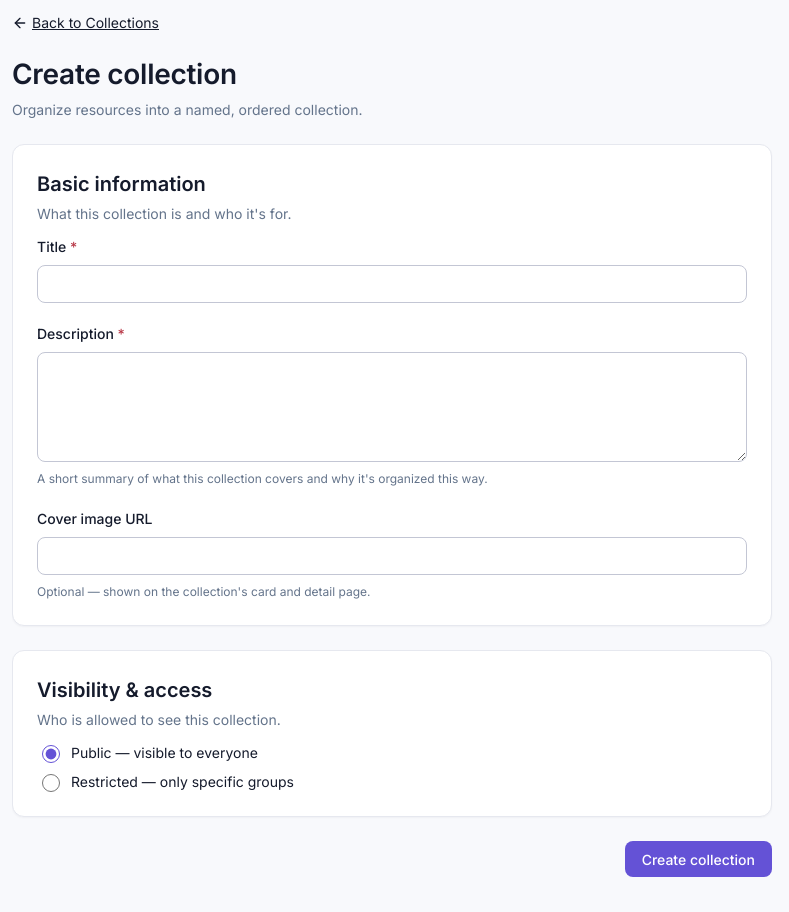
Scenario: CreateCollectionPage › shows a server error and keeps the form in place when creation fails
Type "A New Collection" into the field labelled "Title *" at (392, 284), box [50,266,734,302]
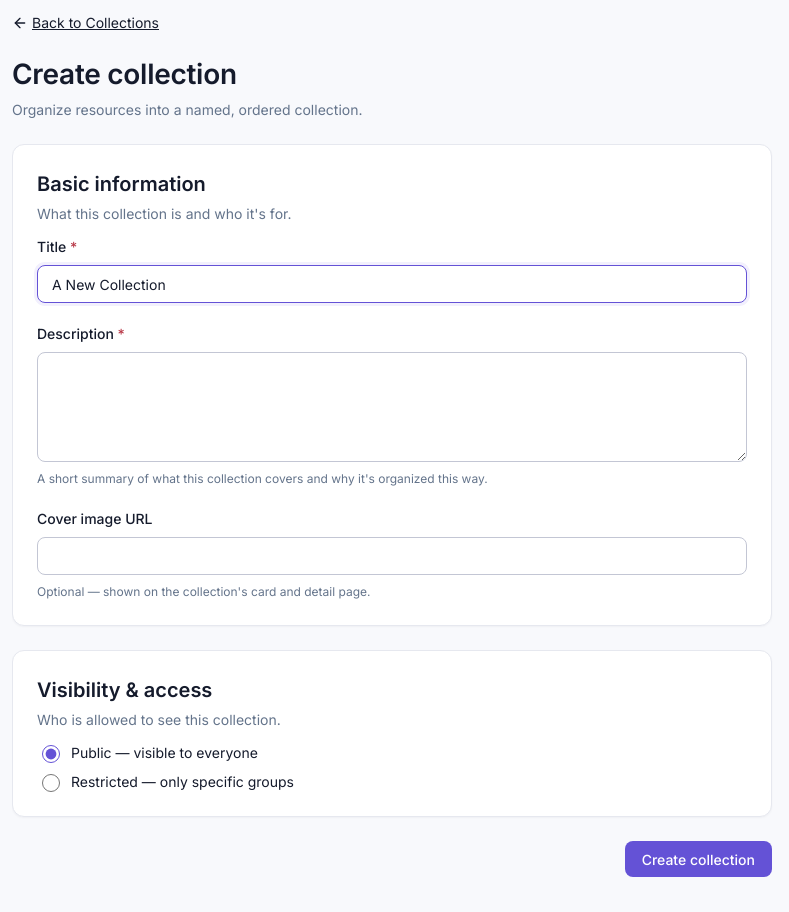
Type "Describes something useful." into the text box labelled "Description *" at (392, 407), box [37,352,747,462]
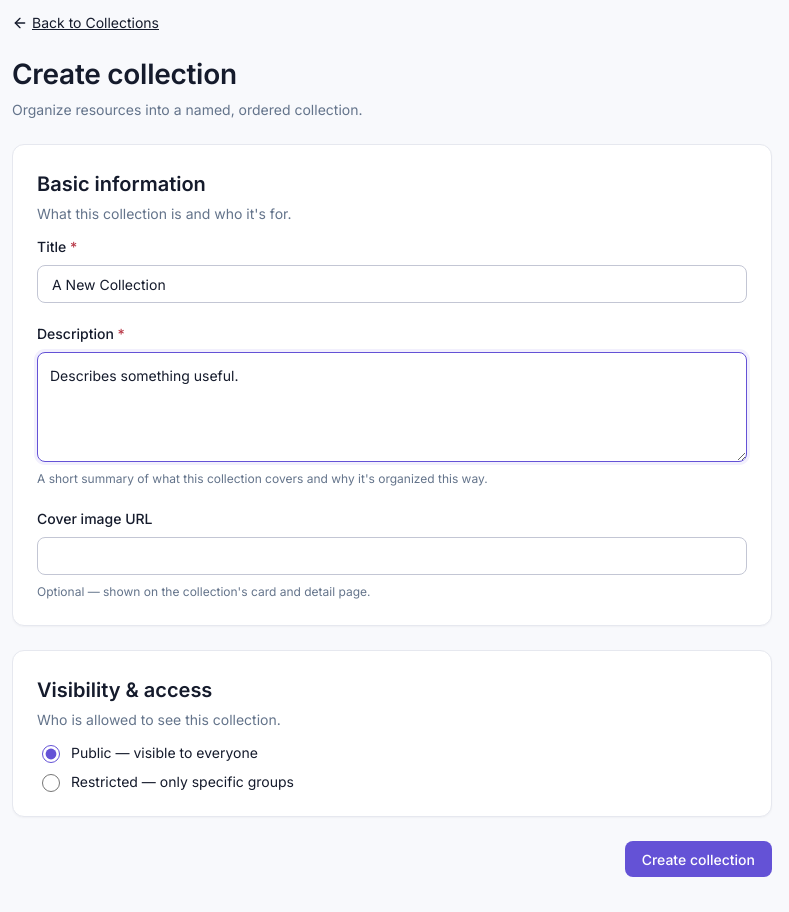
Click the button "Create collection" at (698, 859), box [625,841,772,877]
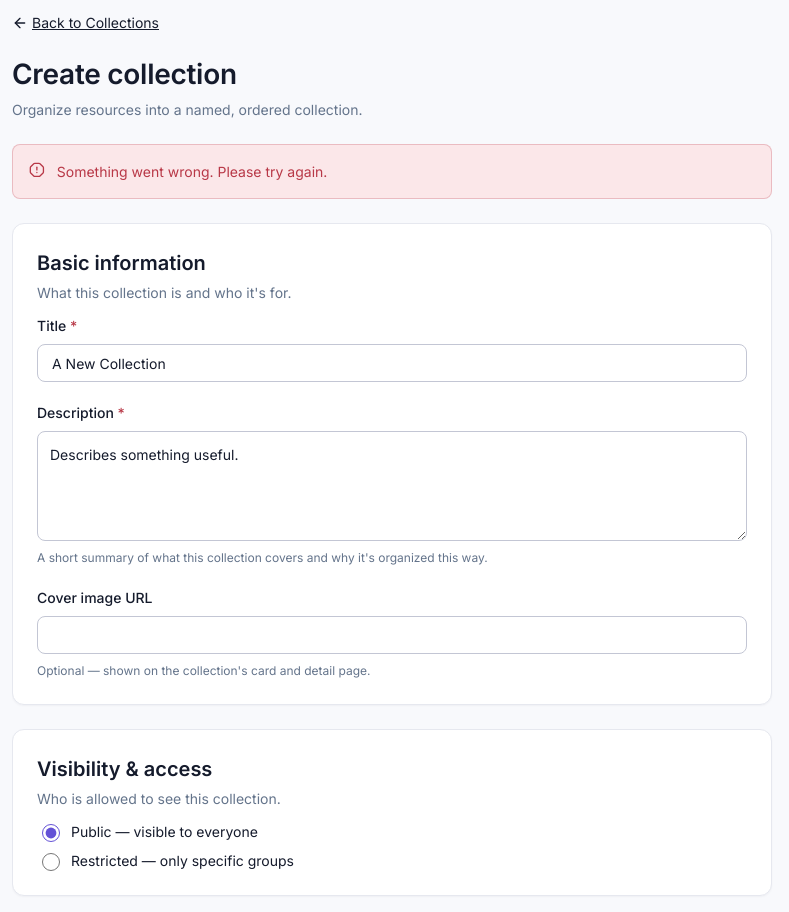
Expected: the text "Something went wrong. Please try again." is shown, [57,163,327,180]
